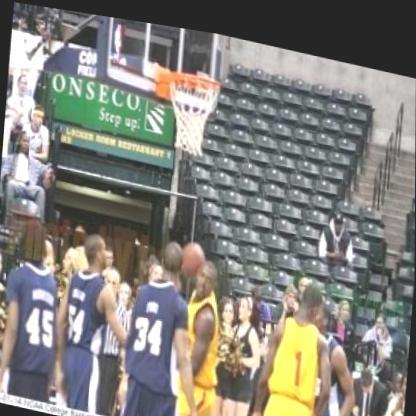basketball: (175, 230, 208, 276)
